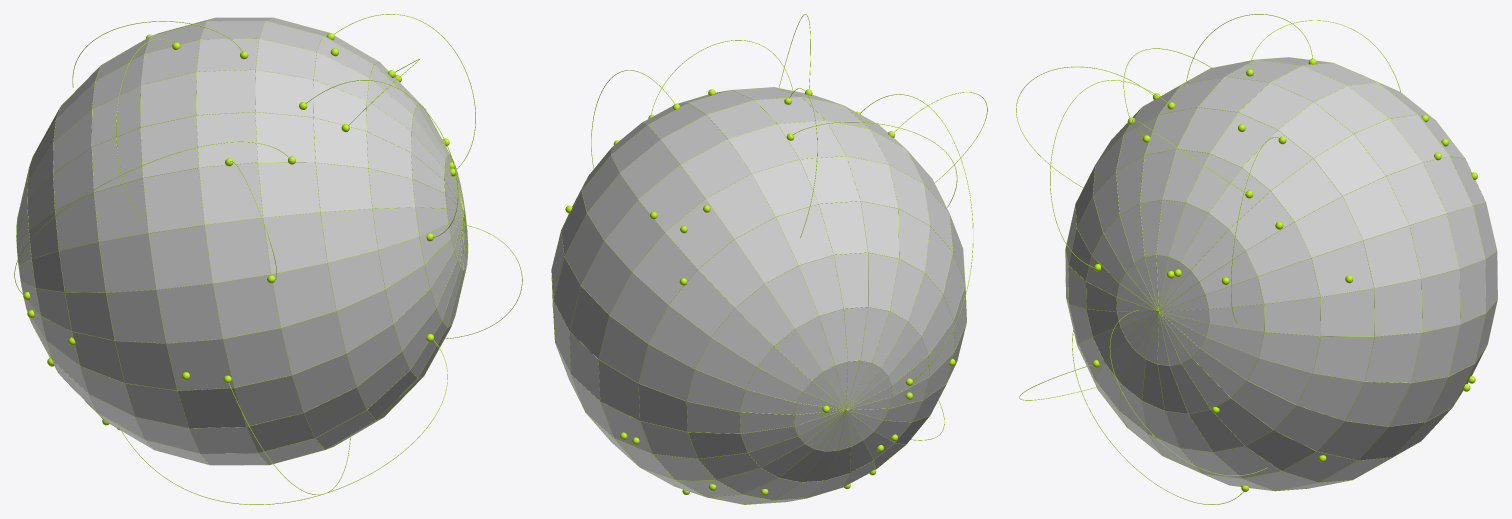
The model's file is NakaCard-WEB-3D-GlobeLines_04.glb.
The picture shows the model from 3 angles, left to right: view 1: azimuth 30°, elevation 25°; view 2: azimuth 150°, elevation 25°; view 3: azimuth 270°, elevation 25°; orthographic projection. The views are drawn at different scales.
Visible parts, largest first — view 1: Sphere.009; view 2: Sphere.009; view 3: Sphere.009.
Part boxes in pixels (x1,y1,x2,y2): Sphere.009: (14,14,522,504); Sphere.009: (551,14,987,504); Sphere.009: (1016,14,1497,504).
Size of the model in its own units: 0.4585 by 0.4515 by 0.4647.
